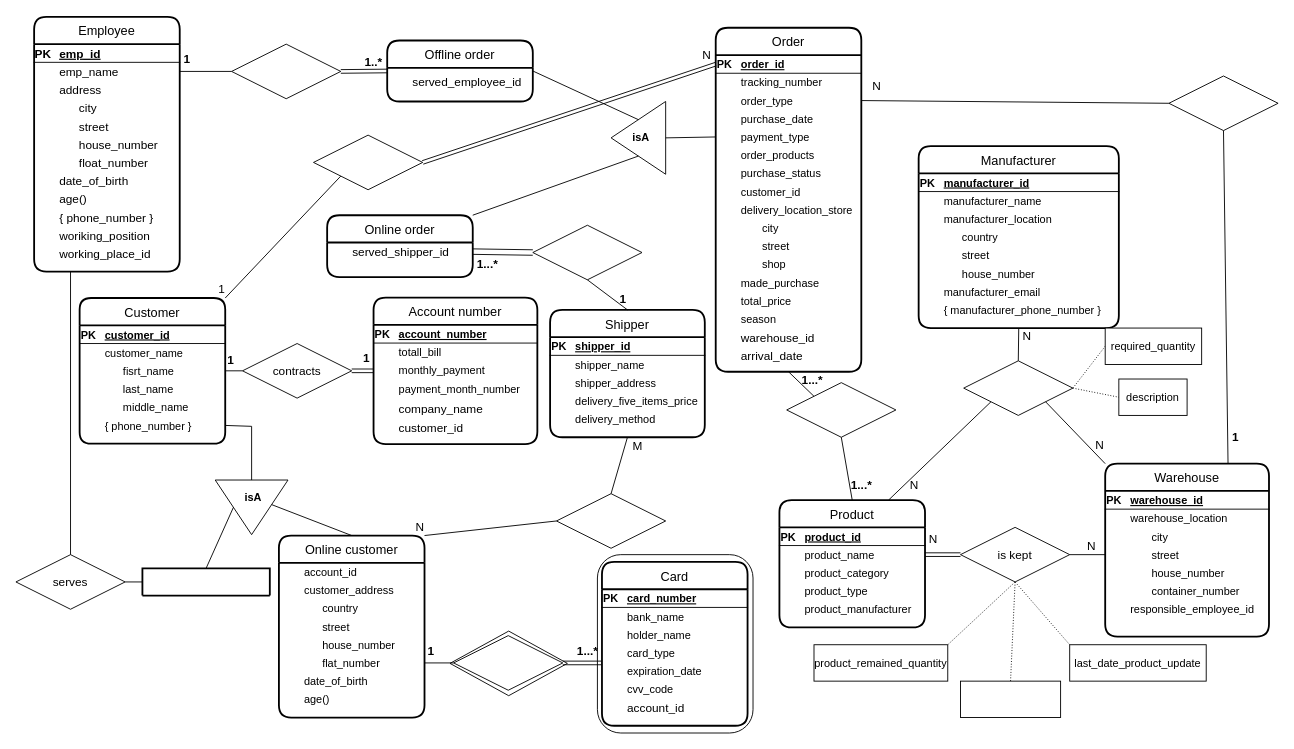
Some shapes in this 1294 by 749 pixel diagram are drawn without their labels. The shapes that lost their labels are listed below. From the top down, each one's centre as x and y in pixels, then its label:
At point 286,71: "creates".
At point 1223,103: "is gotten by".
At point 368,162: "makes".
At point 587,252: "is taken by".
At point 1018,387: "requests".
At point 841,409: "contains".
At point 611,520: "is served by".
At point 205,581: "In-store customer".
At point 508,662: "uses".
At point 1010,699: "last_date_revision".
